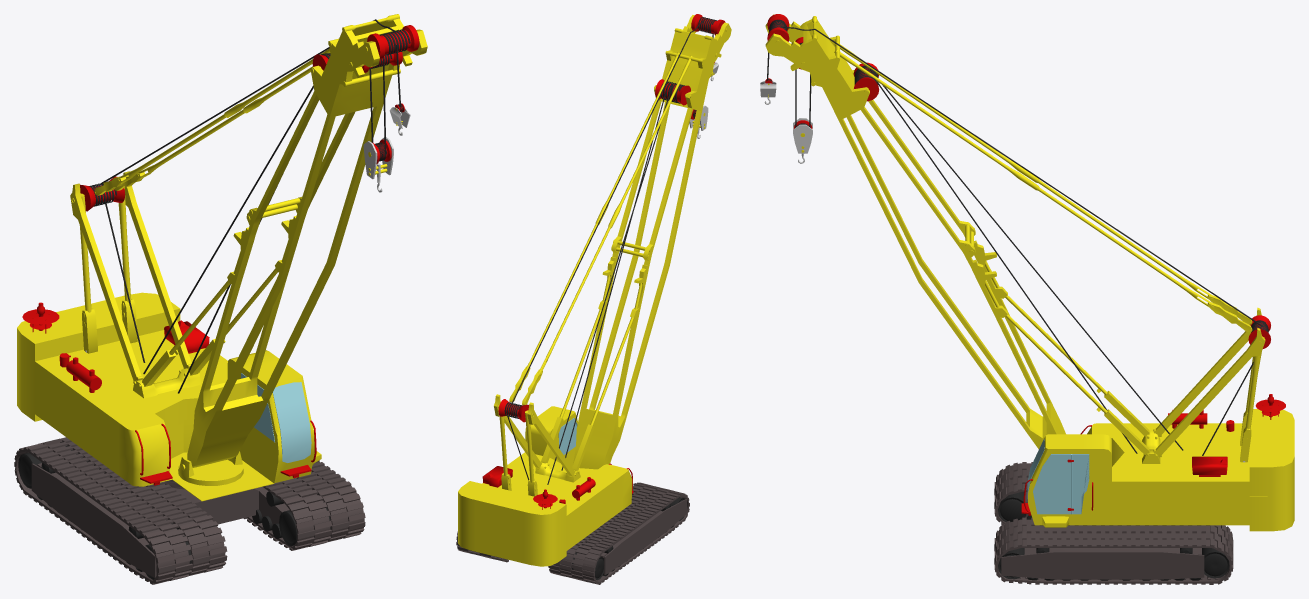
The model's file is crane_full.glb.
3 renders of one model, left to right at view 1: azimuth 30°, elevation 25°; view 2: azimuth 150°, elevation 25°; view 3: azimuth 270°, elevation 25°, orthographic. The views are drawn at different scales.
Parts seen in each view (by area): view 1: Object018, Object021, Object015, Cylinder003, Plane006; view 2: Object018, Object021, Object015, Cylinder003, Plane006; view 3: Object018, Object021, Object015, Plane006, Cylinder003.
Part boxes in pixels (bbox=[...]): Object018: bbox=[70, 14, 427, 485]; Object021: bbox=[17, 292, 321, 501]; Object015: bbox=[14, 437, 365, 584]; Cylinder003: bbox=[22, 302, 316, 485]; Plane006: bbox=[241, 373, 311, 462]; Object018: bbox=[494, 14, 731, 496]; Object021: bbox=[458, 406, 632, 566]; Object015: bbox=[456, 482, 689, 584]; Cylinder003: bbox=[482, 463, 633, 509]; Plane006: bbox=[558, 418, 577, 454]; Object018: bbox=[760, 14, 1270, 463]; Object021: bbox=[1028, 409, 1294, 531]; Object015: bbox=[994, 462, 1233, 584]; Plane006: bbox=[1027, 439, 1089, 514]; Cylinder003: bbox=[1021, 394, 1285, 515].
Size of the model in its own units: 2.83 by 8.31 by 7.71.
